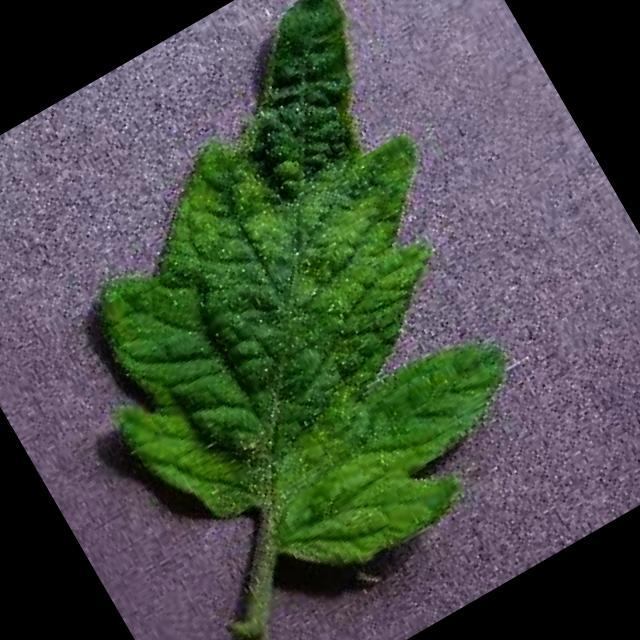Tomato mosaic virus leaf: (0, 0, 605, 638)
